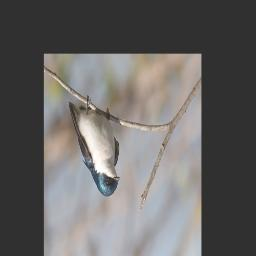Swallow: (67, 93, 119, 198)
